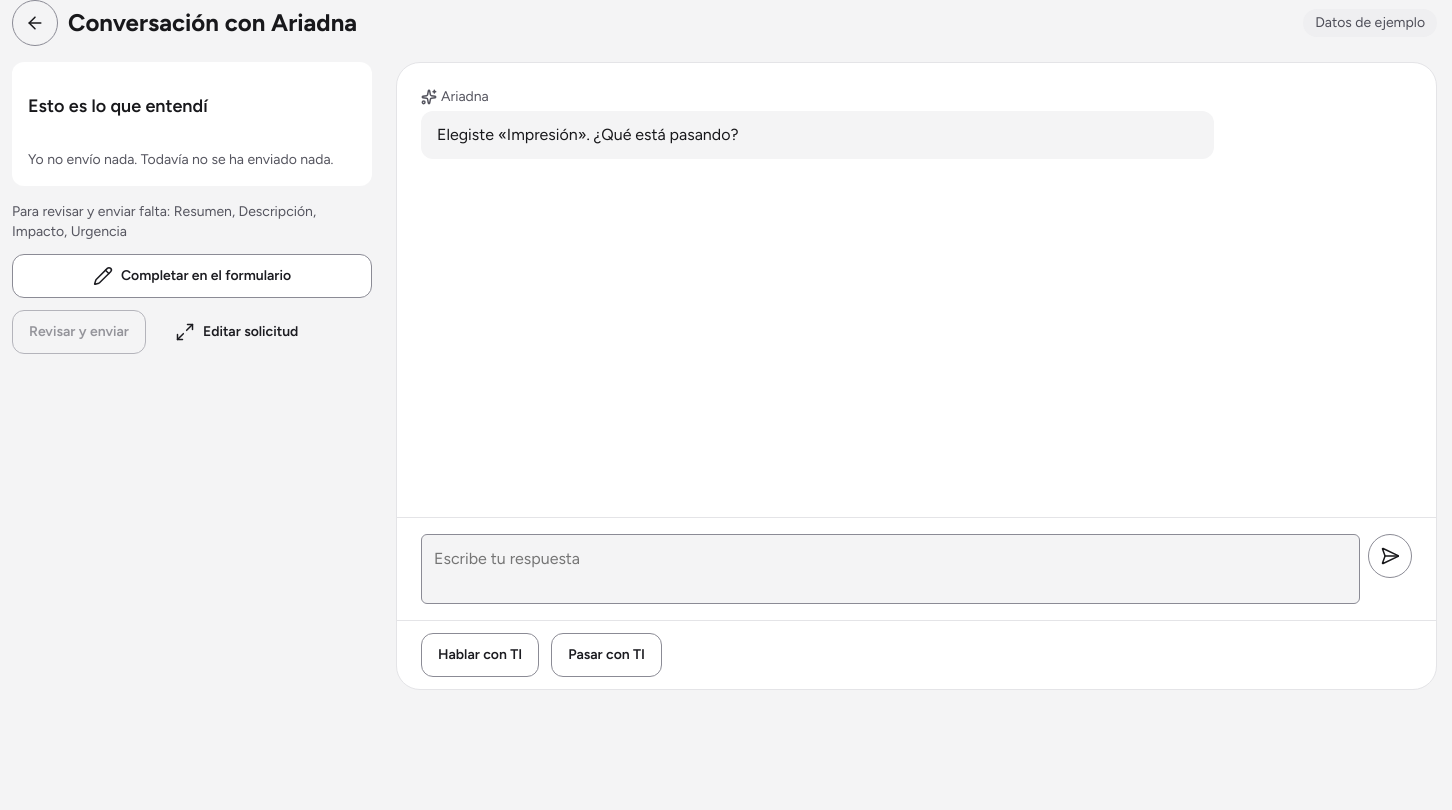
Test case: ConversationContainer (U6) › posts the history, entry and draft; shows the turn and fills 'Tu solicitud'
The image size is (1452, 810).
In the text box named "Tu respuesta para Ariadna": (890, 569) [421, 534, 1360, 604], type "La impresora no imprime"
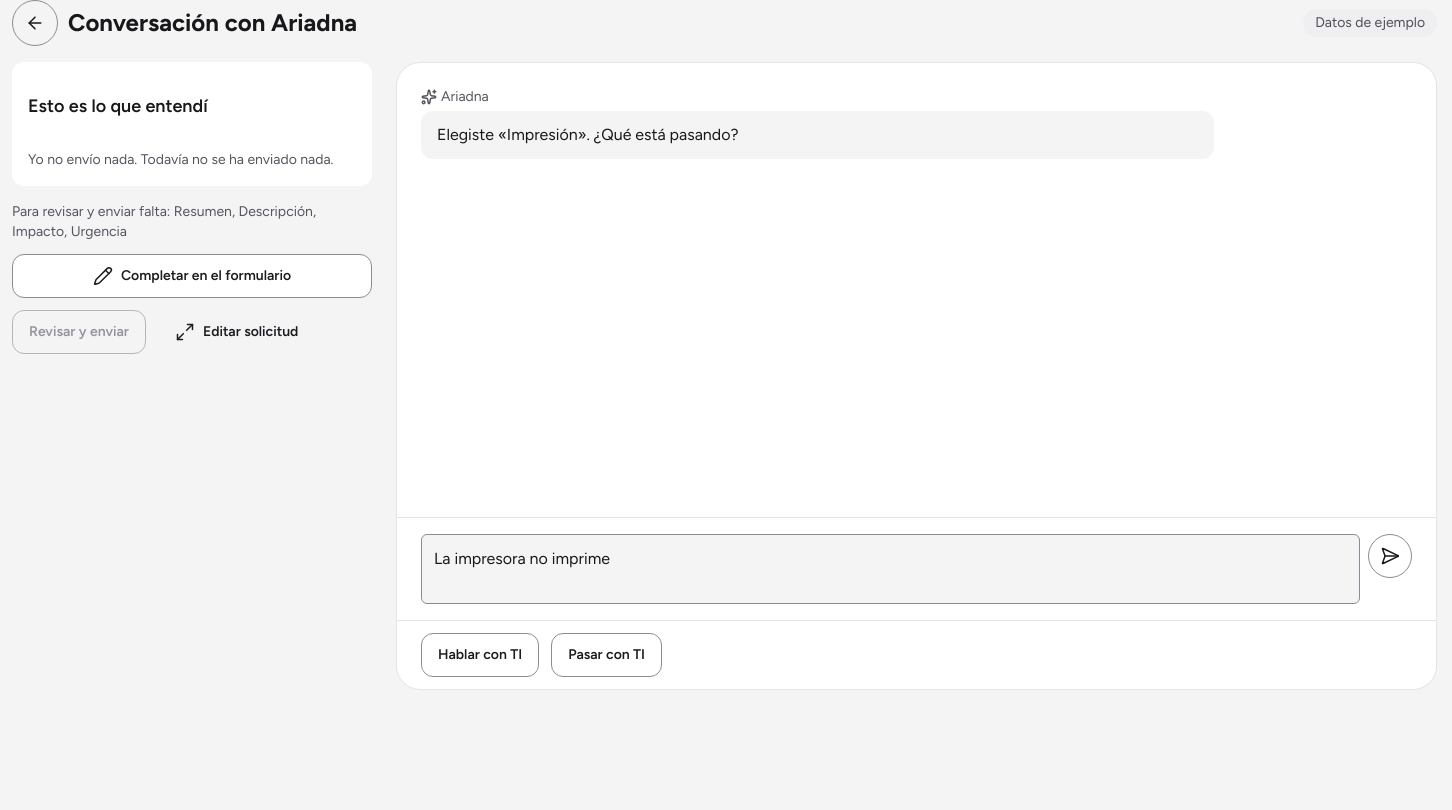
Click the button named "Enviar respuesta a Ariadna": (1390, 556) [1368, 534, 1412, 578]
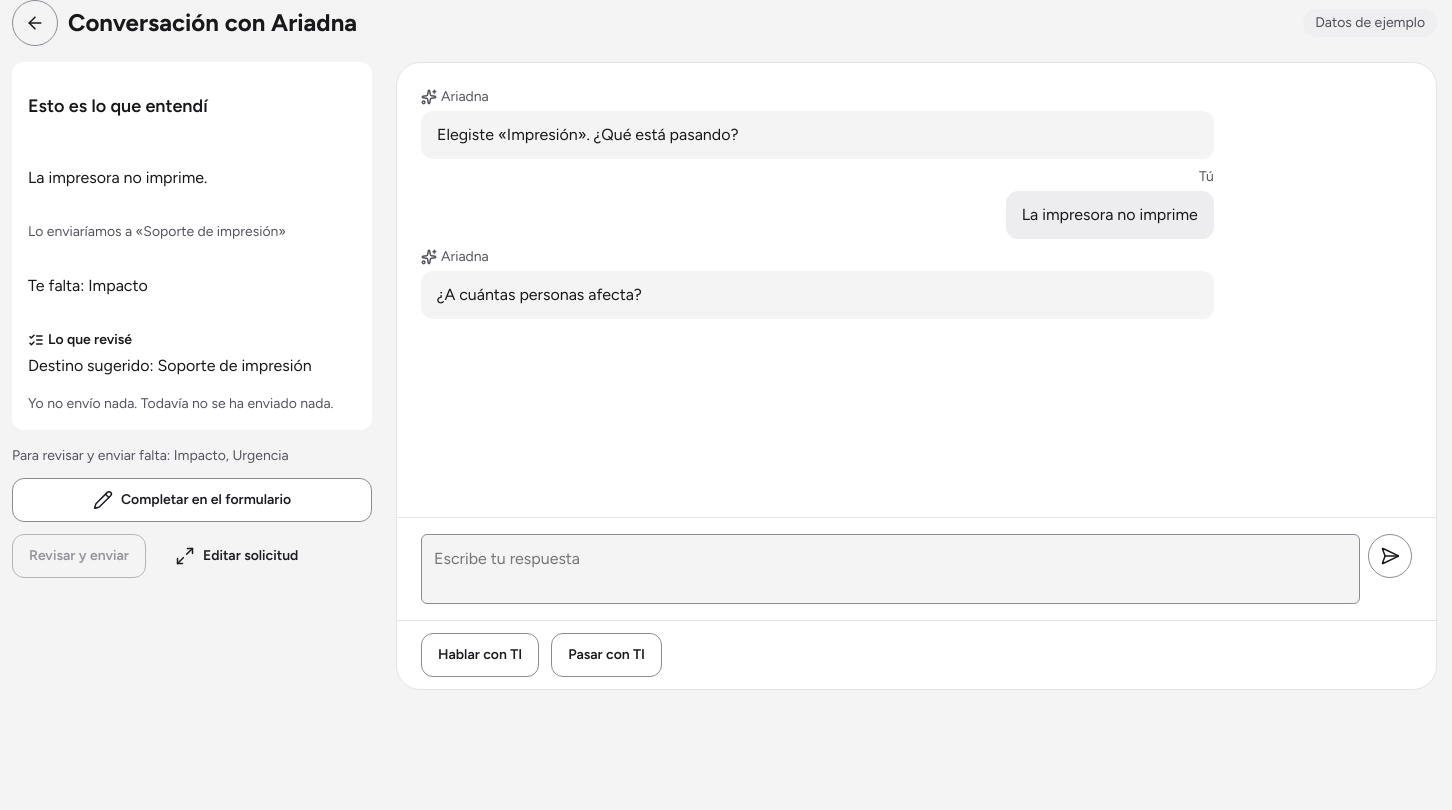
Expected: the text "¿A cuántas personas afecta?" is shown, [421, 271, 1214, 319]
Expected: the text "Te falta: Impacto" is shown, [28, 276, 148, 295]
Expected: the text "La impresora no imprime." is shown, [28, 168, 207, 187]
